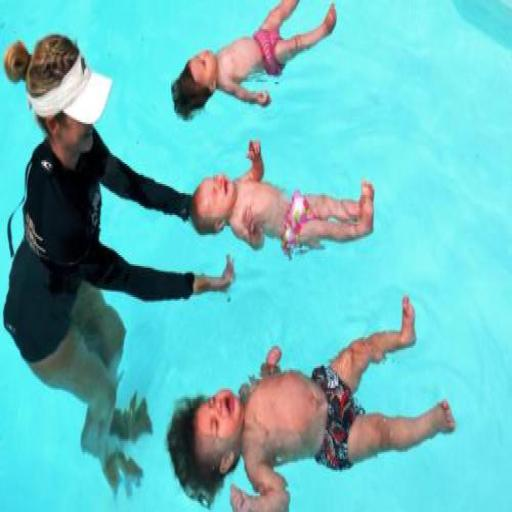swimming: (1, 31, 237, 501), (165, 292, 458, 510), (188, 137, 377, 262), (169, 0, 339, 124)
